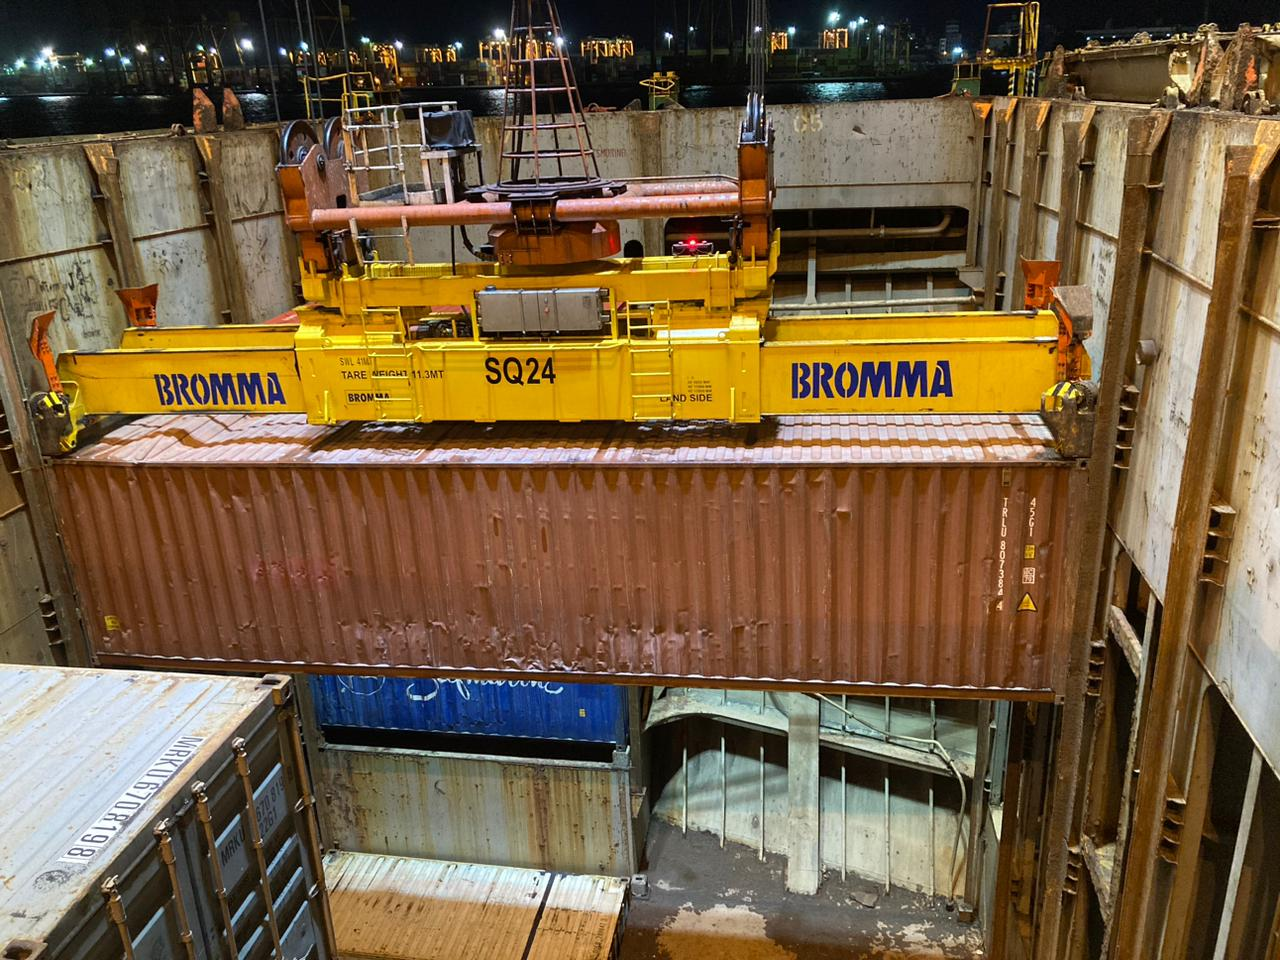dented: (329, 606, 776, 662), (482, 506, 661, 537)
